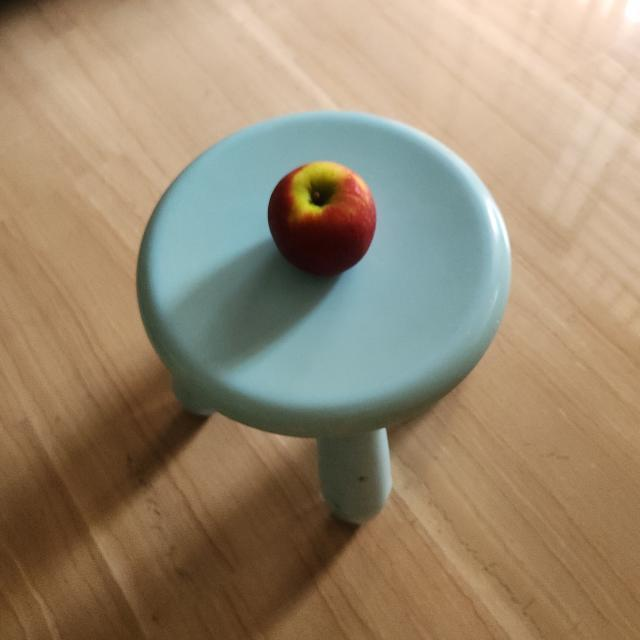apple: (263, 160, 385, 280)
